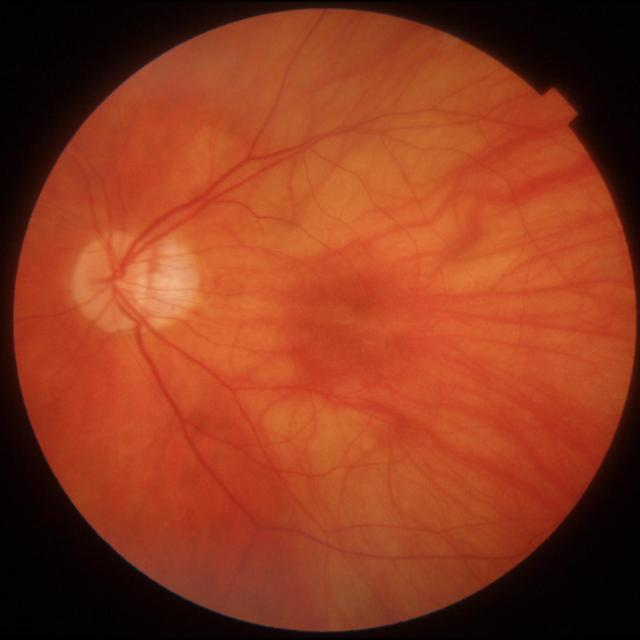OD: (72, 239, 162, 333)
